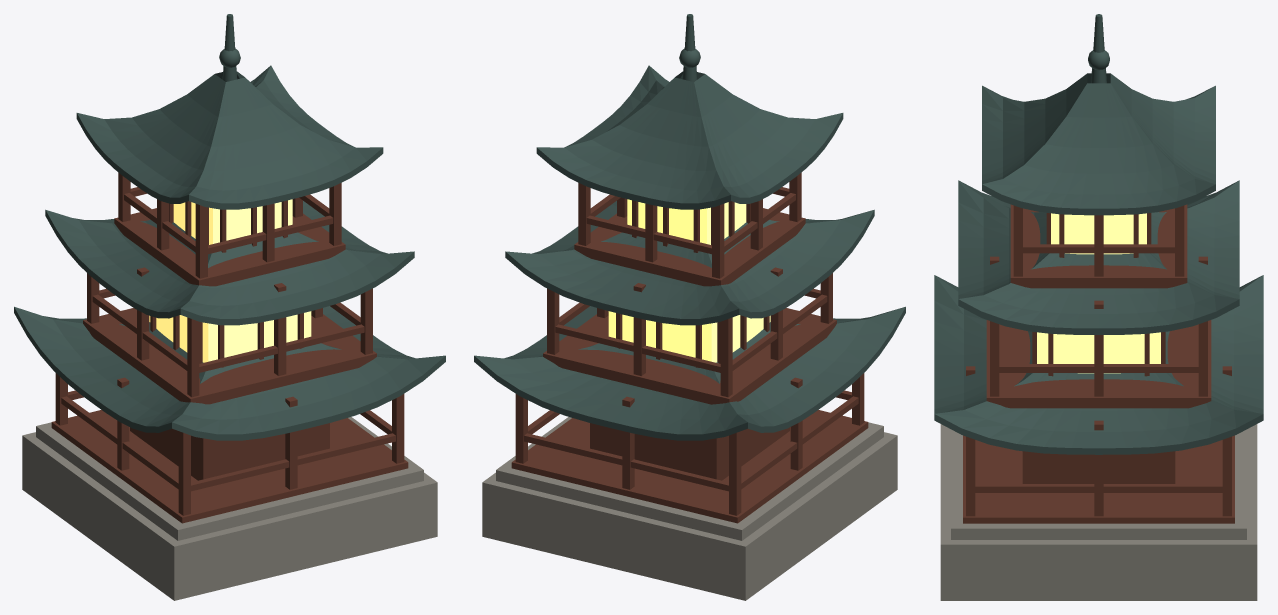
The model's file is MountainPassBeacon.glb.
3 renders of one model, left to right at view 1: azimuth 30°, elevation 25°; view 2: azimuth 150°, elevation 25°; view 3: azimuth 270°, elevation 25°, orthographic. The views are drawn at different scales.
Visible parts, largest first — view 1: MountainPassBeacon; view 2: MountainPassBeacon; view 3: MountainPassBeacon.
Part boxes in pixels (x1,y1,x2,y2): MountainPassBeacon: [14, 14, 445, 600]; MountainPassBeacon: [474, 14, 905, 600]; MountainPassBeacon: [934, 14, 1263, 600].
Size of the model in its own units: 6.34 by 11.01 by 6.34.
